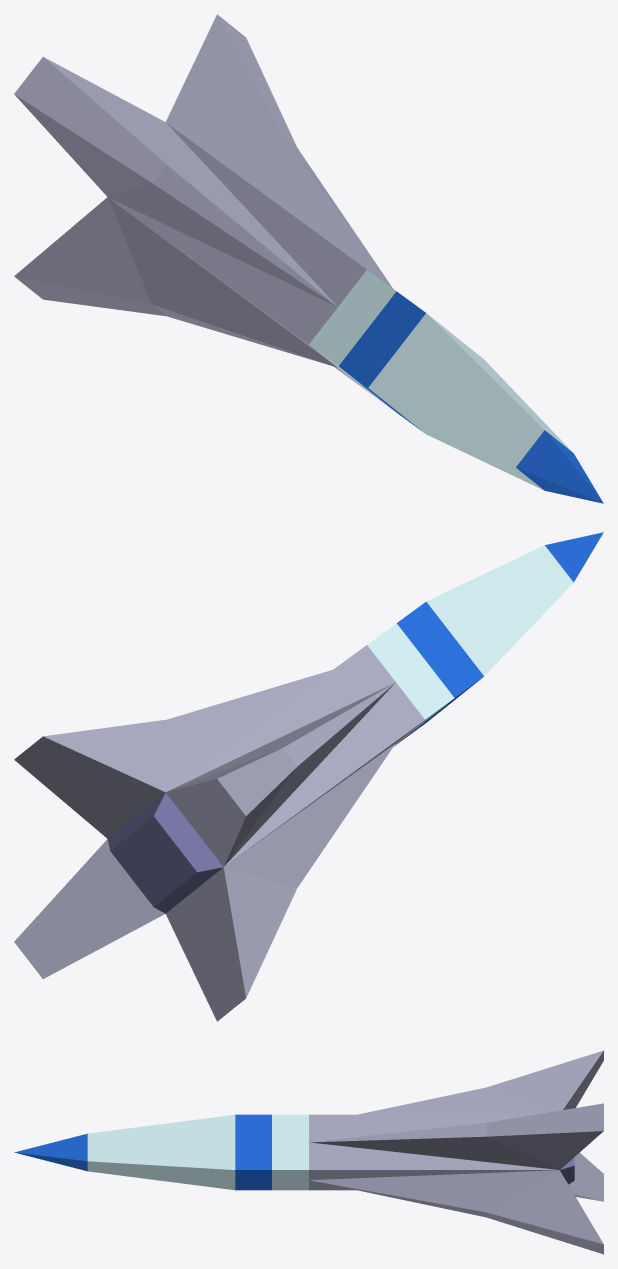
File: missile_1.fbx
3 views of the same model, one above another, from view 1: azimuth 30°, elevation 25°; view 2: azimuth 150°, elevation 25°; view 3: azimuth 270°, elevation 25° (orthographic). The views are drawn at different scales.
Visible parts, largest first — view 1: missile_1; view 2: missile_1; view 3: missile_1.
Part boxes in pixels (x1=…): missile_1: x1=14, y1=14, x2=603, y2=503; missile_1: x1=14, y1=532, x2=603, y2=1021; missile_1: x1=14, y1=1050, x2=603, y2=1254.
Size of the model in its own units: 5.66 by 5.66 by 20.
